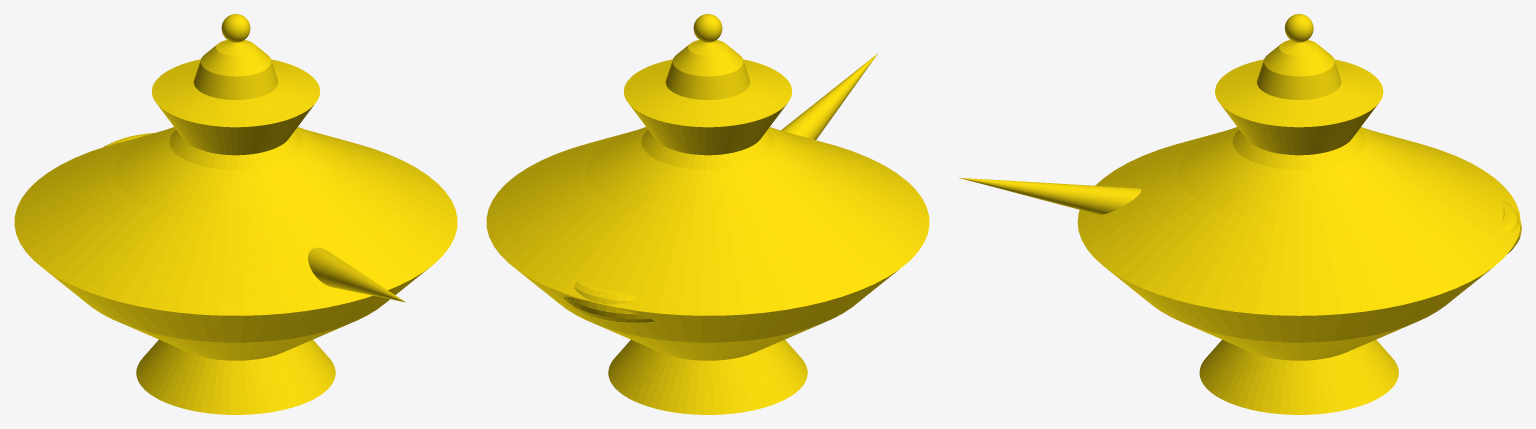
3 views of the same model, side by side, from view 1: azimuth 30°, elevation 25°; view 2: azimuth 150°, elevation 25°; view 3: azimuth 270°, elevation 25° (orthographic).
Visible parts, largest first — view 1: part_6, part_2, part_5, part_1; view 2: part_6, part_2, part_4, part_5, part_1; view 3: part_6, part_2, part_5, part_1, part_4.
Boxes of the visible parts, x1,y1,x2,y2 form: part_6: (14,59,457,414); part_2: (193,40,278,99); part_5: (308,247,405,302); part_1: (221,14,250,42); part_6: (486,59,929,414); part_2: (665,40,750,99); part_4: (563,281,654,323); part_5: (781,53,877,139); part_1: (693,14,722,42); part_6: (1077,59,1520,414); part_2: (1257,40,1341,99); part_5: (958,177,1141,214); part_1: (1284,14,1313,42); part_4: (1501,199,1521,253).
Size of the model in its own units: 0.7861 by 0.6996 by 1.
1 material, 1 textured.
